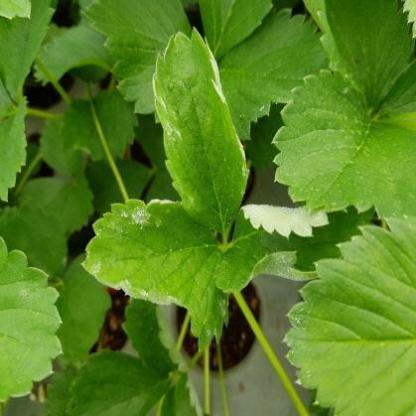Strawberry_Powdery_Mildew_Leaf: (281, 212, 415, 414), (81, 198, 231, 353), (151, 26, 250, 233), (214, 204, 376, 294), (0, 238, 64, 404)
